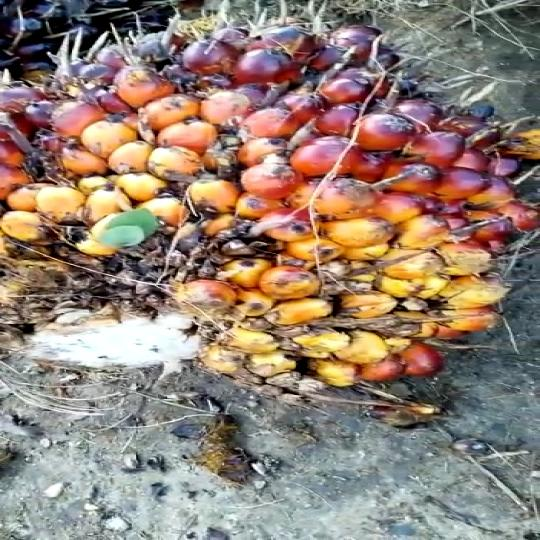masak: (0, 4, 540, 408)
